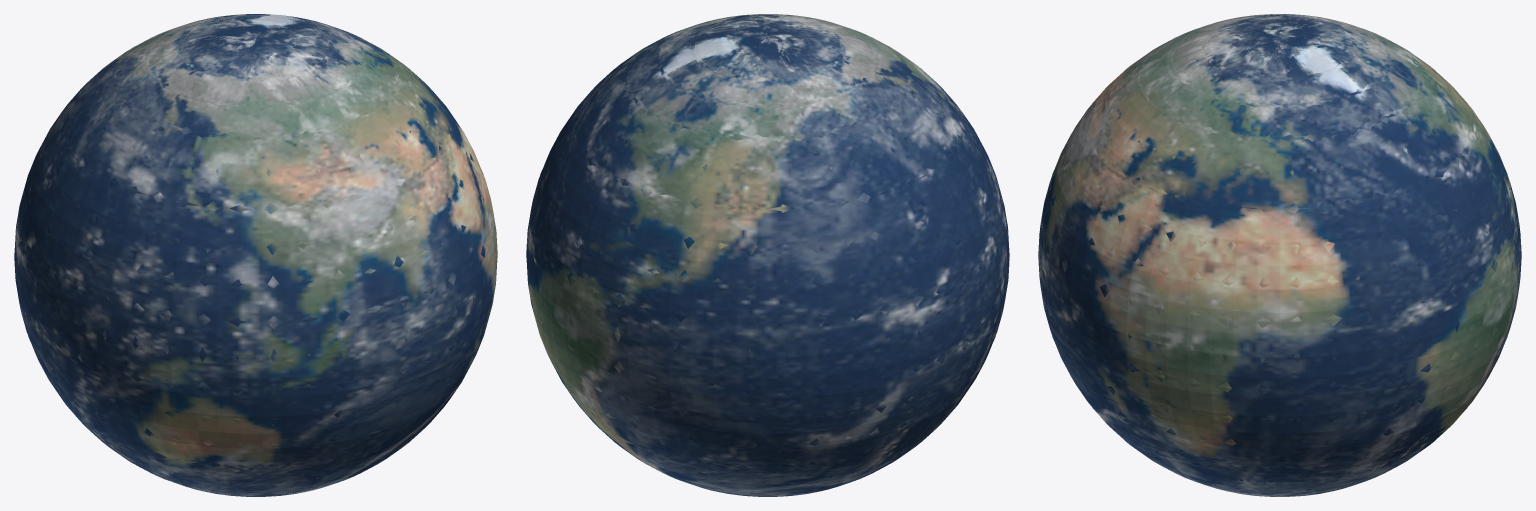
The model's file is body.obj.
3 views of the same model, side by side, from view 1: azimuth 30°, elevation 25°; view 2: azimuth 150°, elevation 25°; view 3: azimuth 270°, elevation 25° (orthographic).
Visible parts, largest first — view 1: LOD4, LOD3; view 2: LOD4, LOD3; view 3: LOD4, LOD3.
Boxes of the visible parts, x1,y1,x2,y2 form: LOD4: (14, 14, 497, 496); LOD3: (14, 14, 497, 496); LOD4: (526, 14, 1009, 496); LOD3: (526, 14, 1009, 496); LOD4: (1038, 14, 1521, 496); LOD3: (1040, 14, 1519, 496).
Bounding box in the file's own units: 2 × 2 × 2.
1 material, 1 textured.
